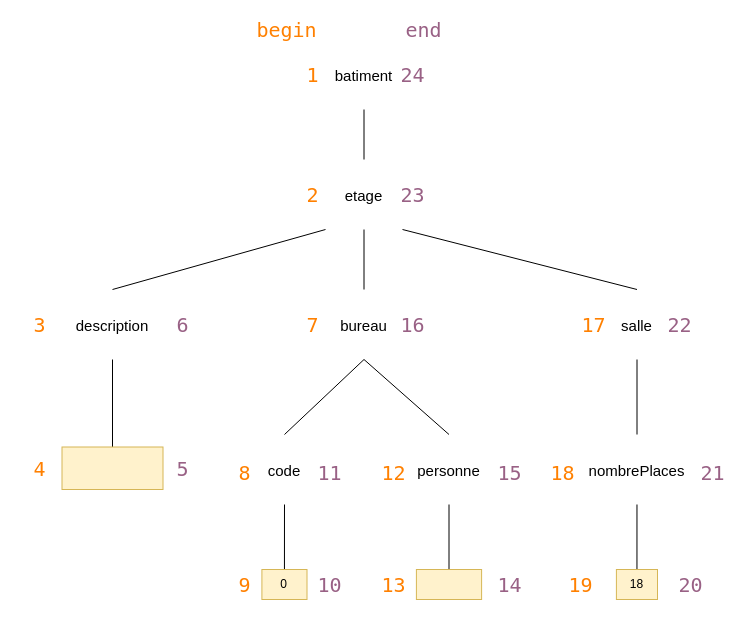
Image size: 753x621. Some labels were removed from this diagram. The shapes that lost their labels are listed below. From the top down, each one's centre as x and y in pixels, then its label:
(x=112, y=468): Rez de chaussée
(x=448, y=584): Michel
